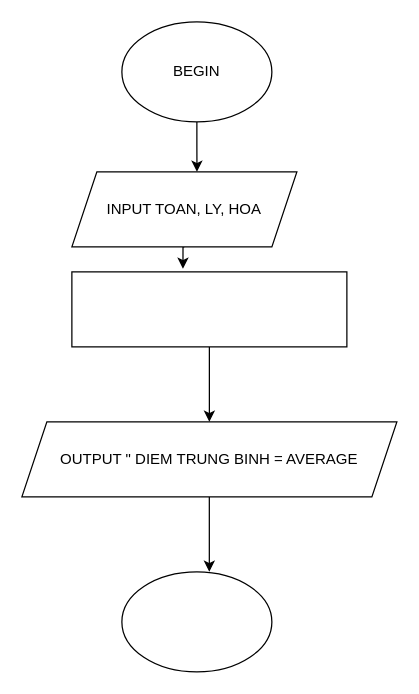
Some shapes in this 419 by 694 pixel diagram are drawn without their labels. Each missing label, with the box of its shape:
AVERAGE = (TOAN + LY + HOA)/3: (71, 271, 347, 347)
END: (121, 571, 272, 672)
